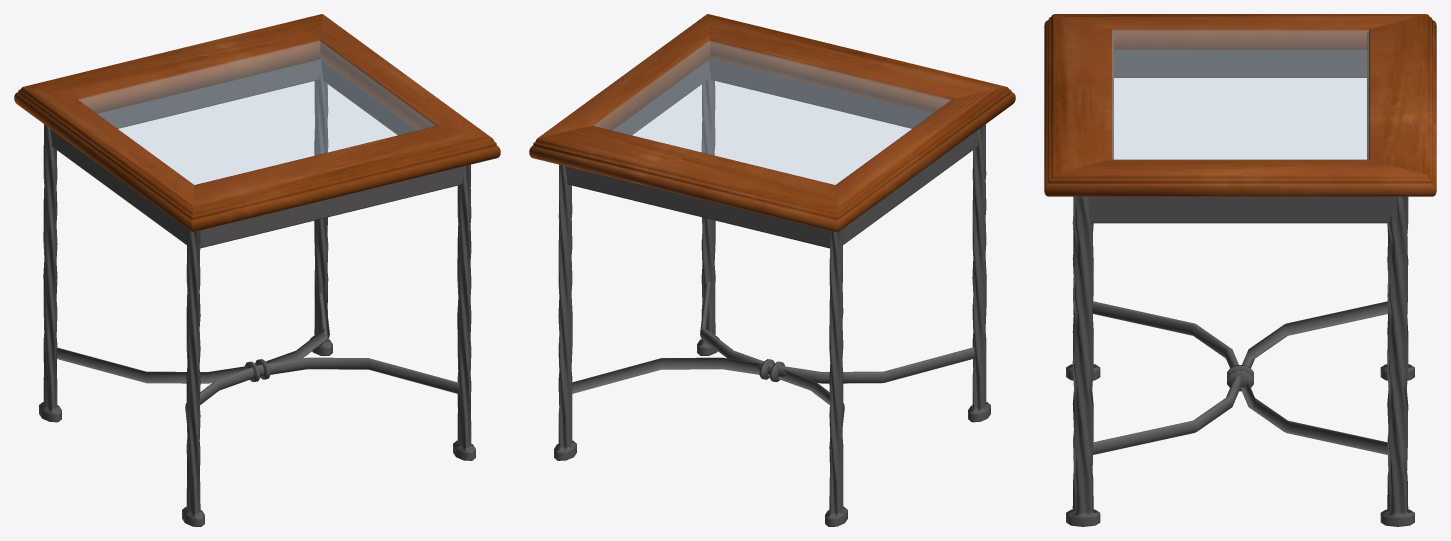
The model's file is sh-scopia-table-wood-and-iron.glb.
The picture shows the model from 3 angles, left to right: view 1: azimuth 30°, elevation 25°; view 2: azimuth 150°, elevation 25°; view 3: azimuth 270°, elevation 25°; orthographic projection. The views are drawn at different scales.
Parts seen in each view (by area): view 1: woodenframe_Plane.001, ironbase_Cylinder.002, glass_Cube; view 2: woodenframe_Plane.001, ironbase_Cylinder.002, glass_Cube; view 3: woodenframe_Plane.001, ironbase_Cylinder.002, glass_Cube.
Part boxes in pixels (<box>): woodenframe_Plane.001: <box>14,14,500,232</box>; ironbase_Cylinder.002: <box>39,59,475,526</box>; glass_Cube: <box>78,40,436,184</box>; woodenframe_Plane.001: <box>529,14,1015,232</box>; ironbase_Cylinder.002: <box>554,59,990,526</box>; glass_Cube: <box>593,40,951,184</box>; woodenframe_Plane.001: <box>1044,14,1436,196</box>; ironbase_Cylinder.002: <box>1066,50,1414,526</box>; glass_Cube: <box>1112,30,1368,159</box>.
Size of the model in its own units: 1 by 1 by 1.
Materials: 3 (1 with a texture image).
